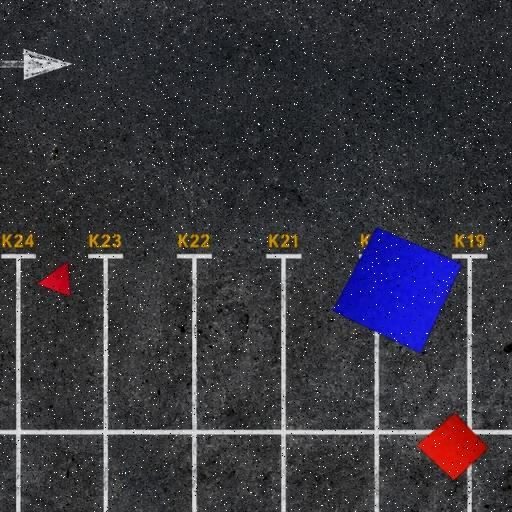BLUE_SQUARE: (332, 226, 463, 354)
RED_SQUARE: (415, 412, 490, 482)
